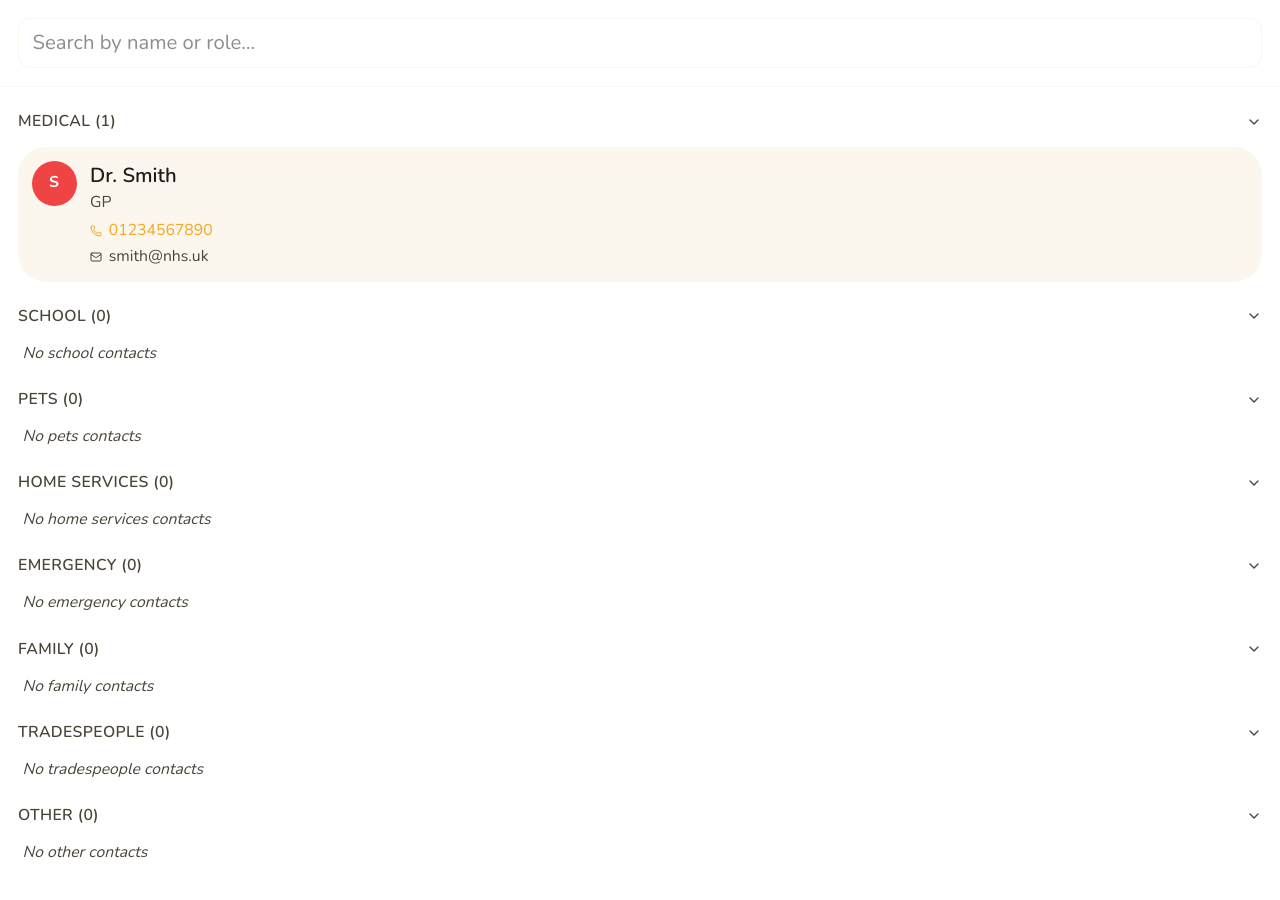
Test case: ContactsList › section collapse hides cards
Expected: the text "Dr. Smith" is shown, [90,162,177,188]
Click the button "Medical (1)" at (54, 121), box [18,105,1262,138]
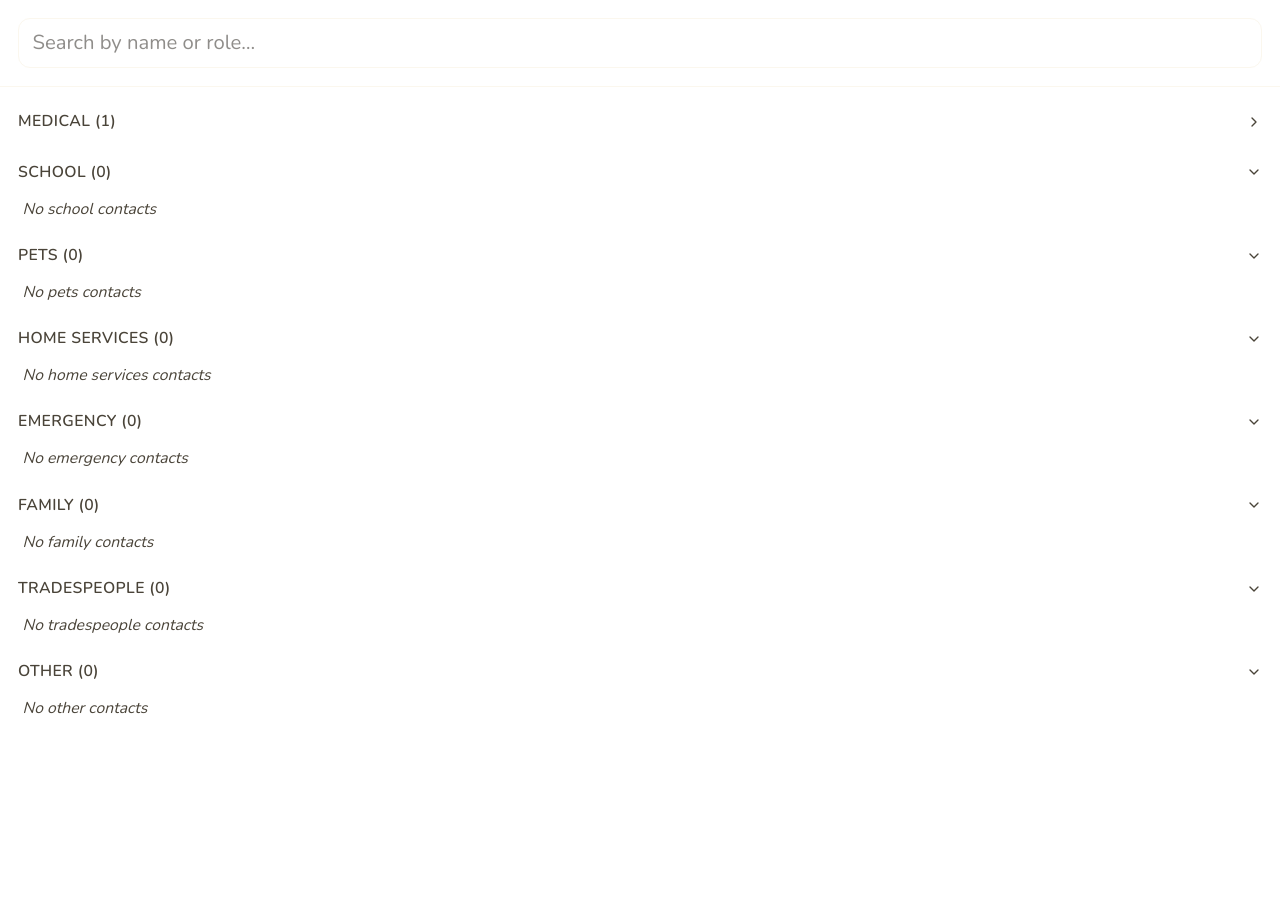
Expected: the text "Dr. Smith" is gone
